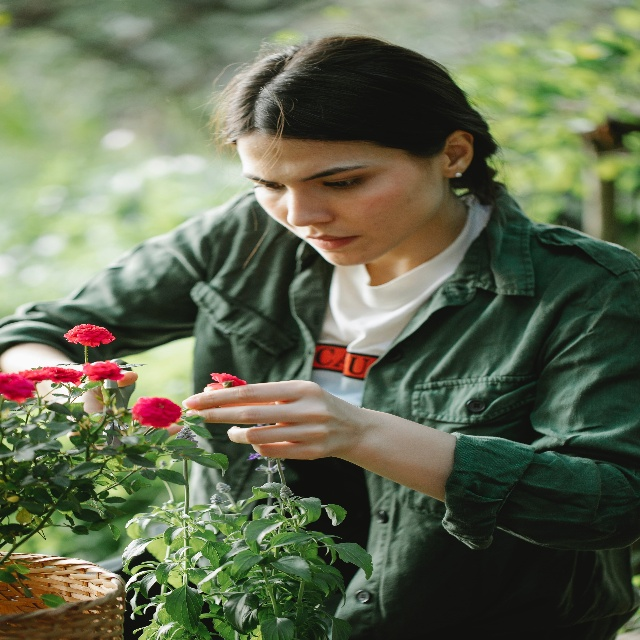Sin_guantes: (181, 380, 354, 461)
